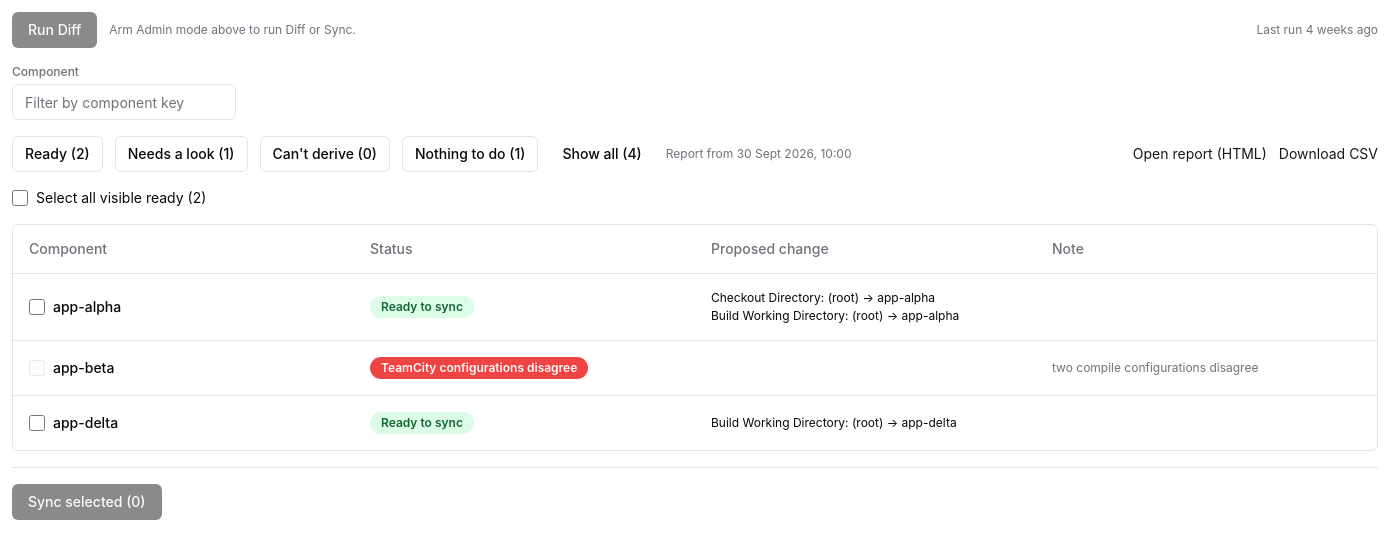
TeamCityCheckoutLayoutPanel — summary bar › shows a clickable, aria-pressed count button per bucket
The image size is (1390, 537).
Click the button "Needs a look (1)".
click(181, 154)  # box [115,136,248,172]
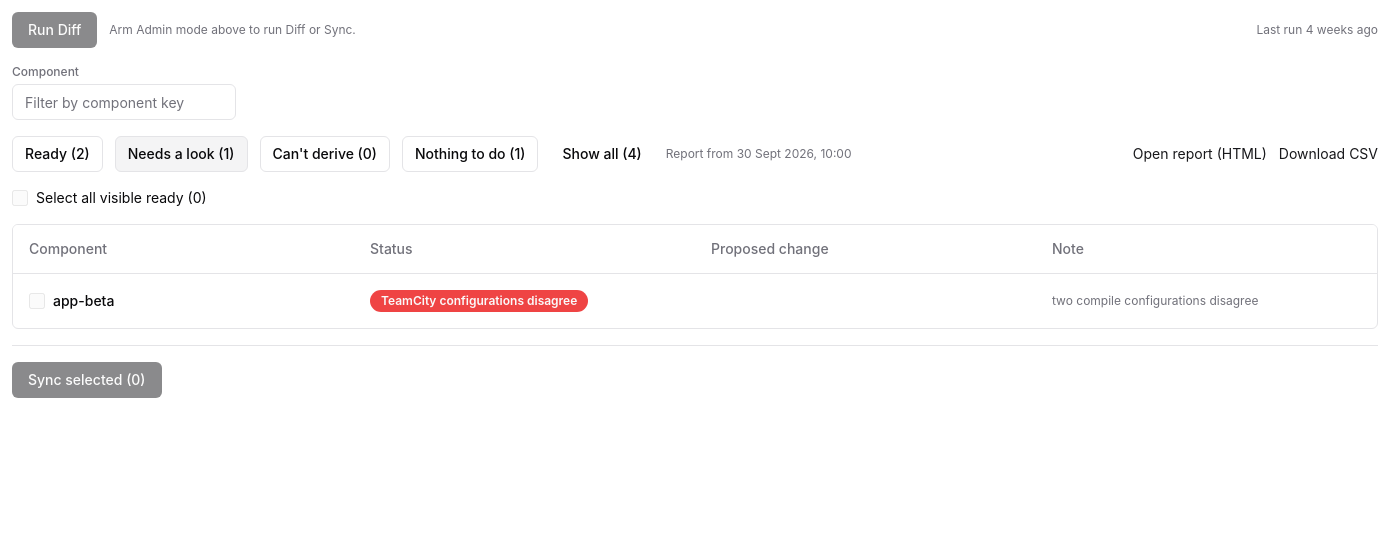
Expected: the text "app-beta" is shown, [29,292,114,308]
Now the text "app-alpha" is gone
Note: Clicking the same bucket again clears the filter back to the default view.
Click the button "Needs a look (1)".
click(181, 154)  # box [115,136,248,172]
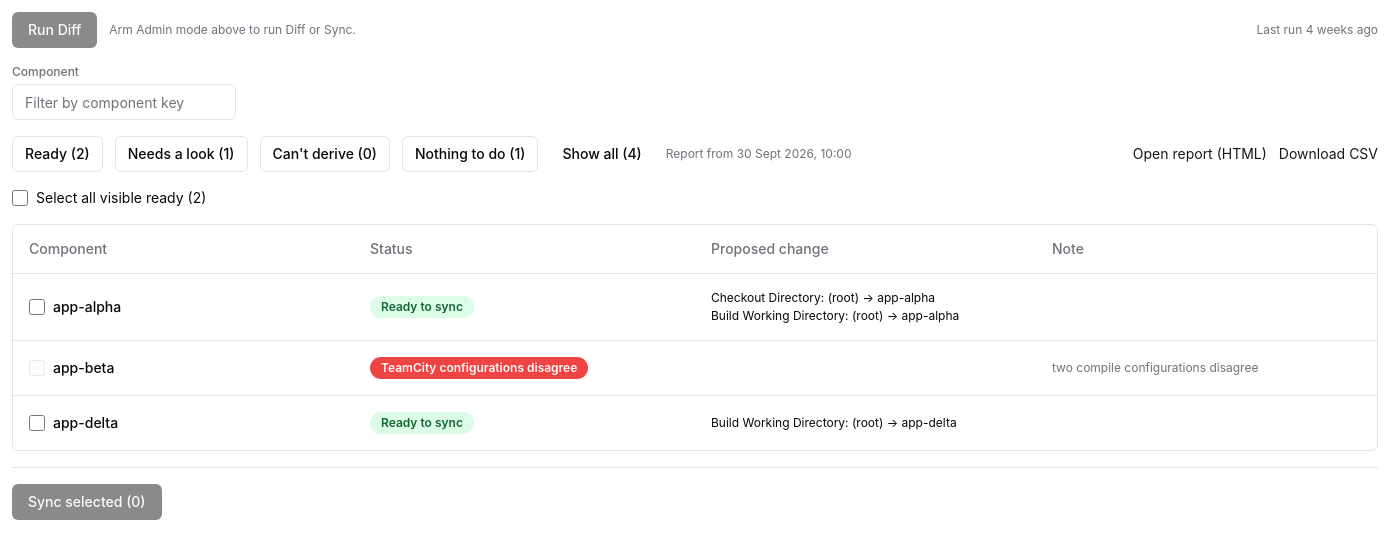
Now the text "app-alpha" is shown, box [29,298,121,314]
